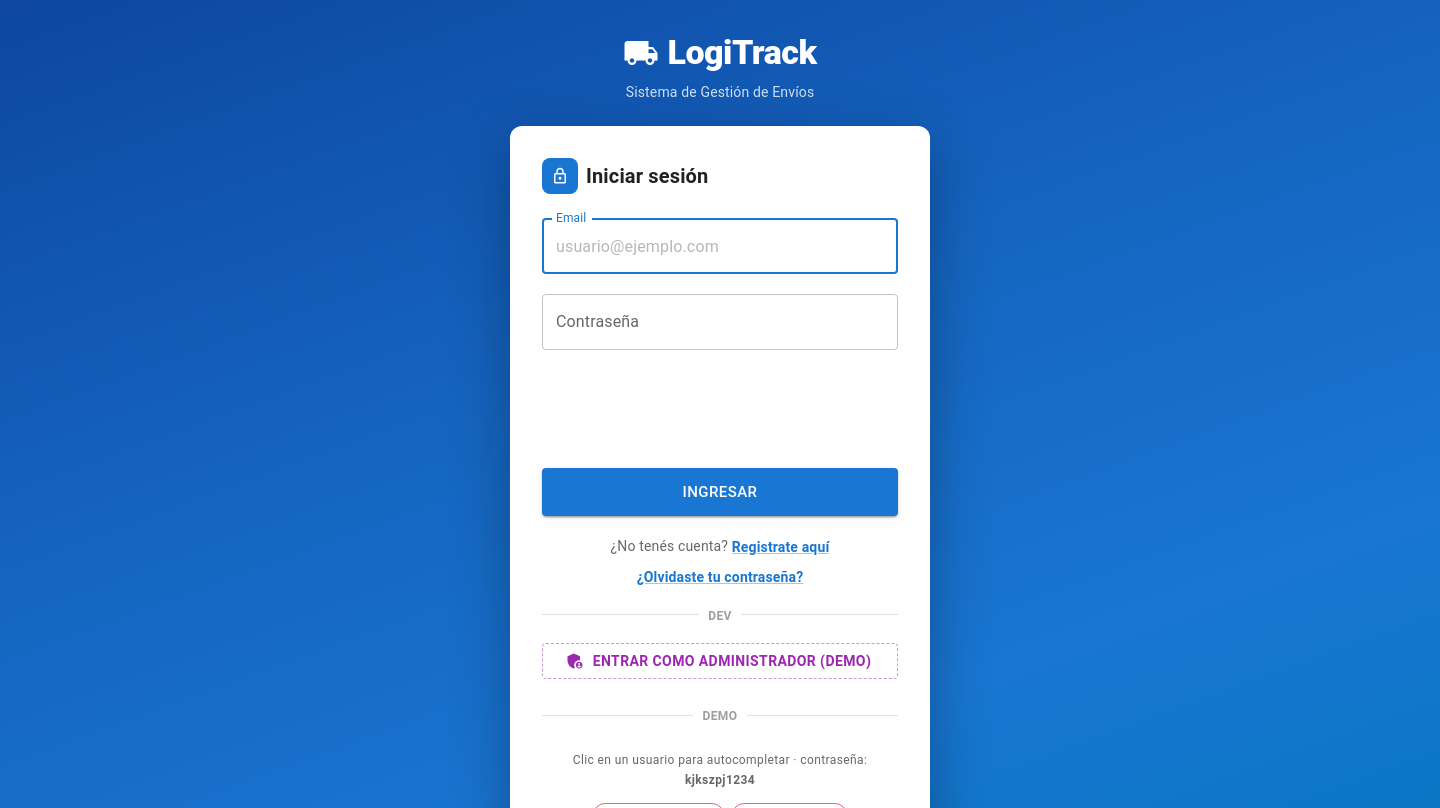
LoginPage integration › CP-09 valida campos vacios antes de enviar
Click the button "Ingresar".
click(720, 492)  # box 542,468 -> 898,516
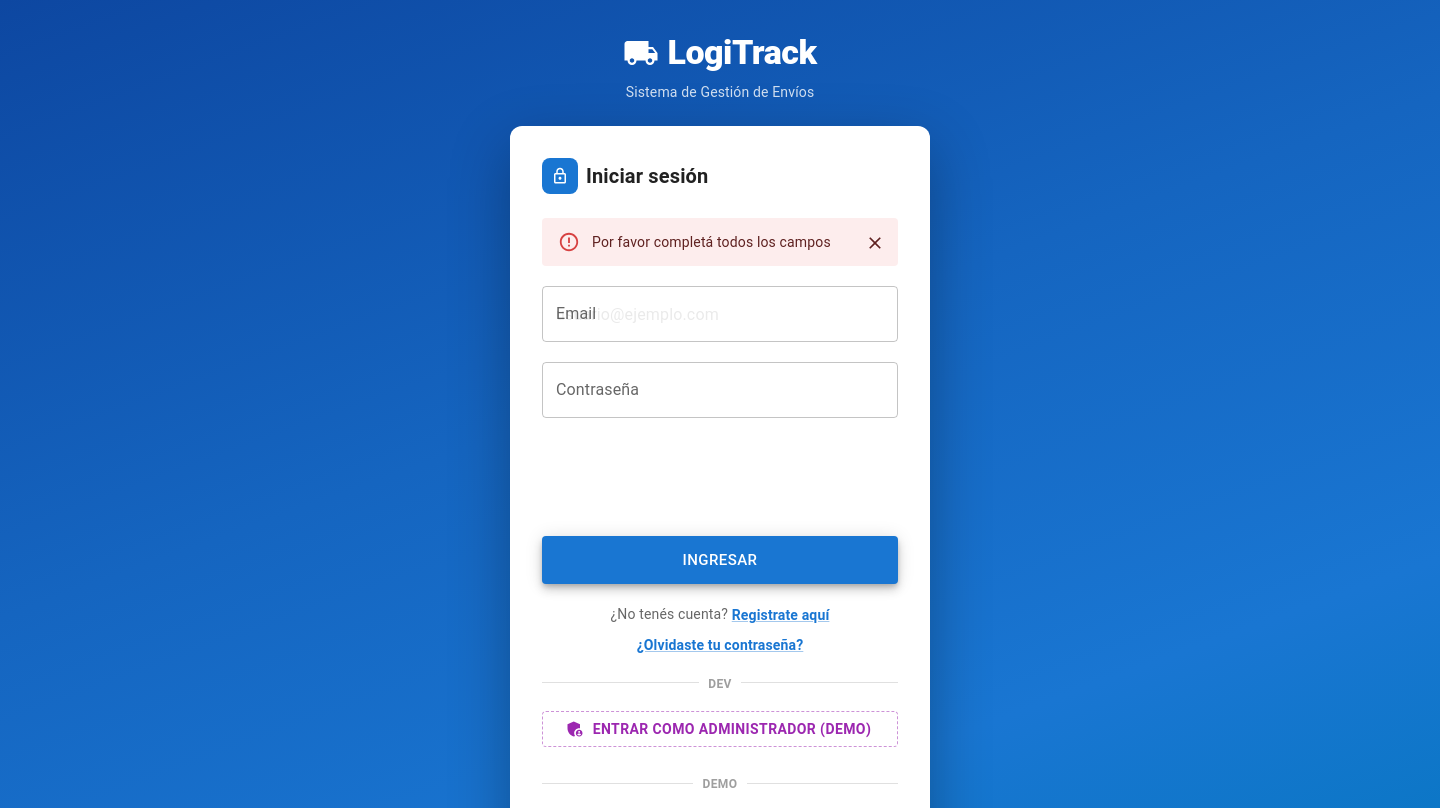
Expected: the text "Por favor completá todos los campos" is shown, 592,234 -> 831,250
